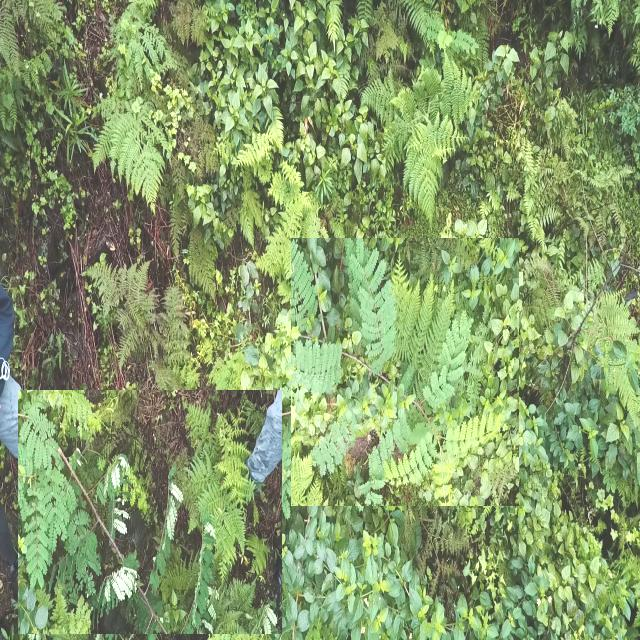Mysore-Thorn-Weed: (18, 390, 282, 634), (292, 238, 520, 506)
